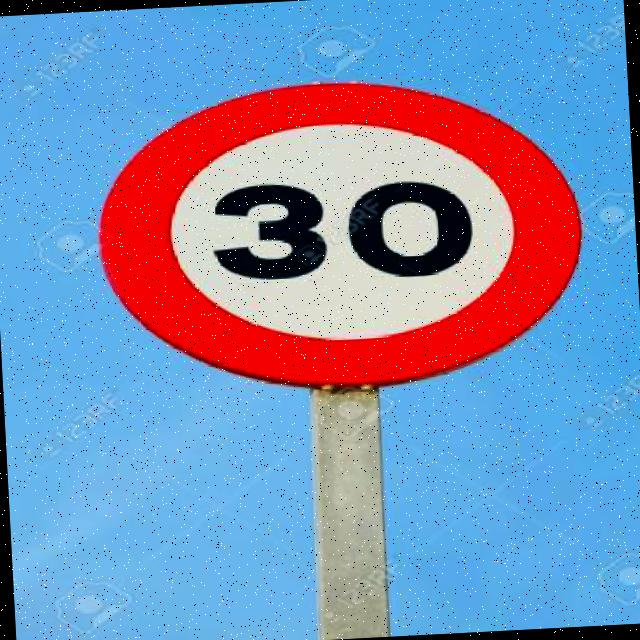Ograniczenie predkosci do 30: (95, 71, 588, 405)
